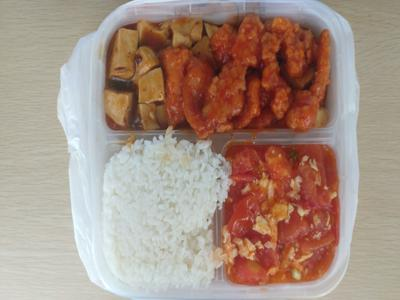df: (95, 13, 164, 134)
jdxhs: (222, 137, 350, 296)
r2: (181, 15, 326, 134)
rice: (104, 134, 227, 292)
